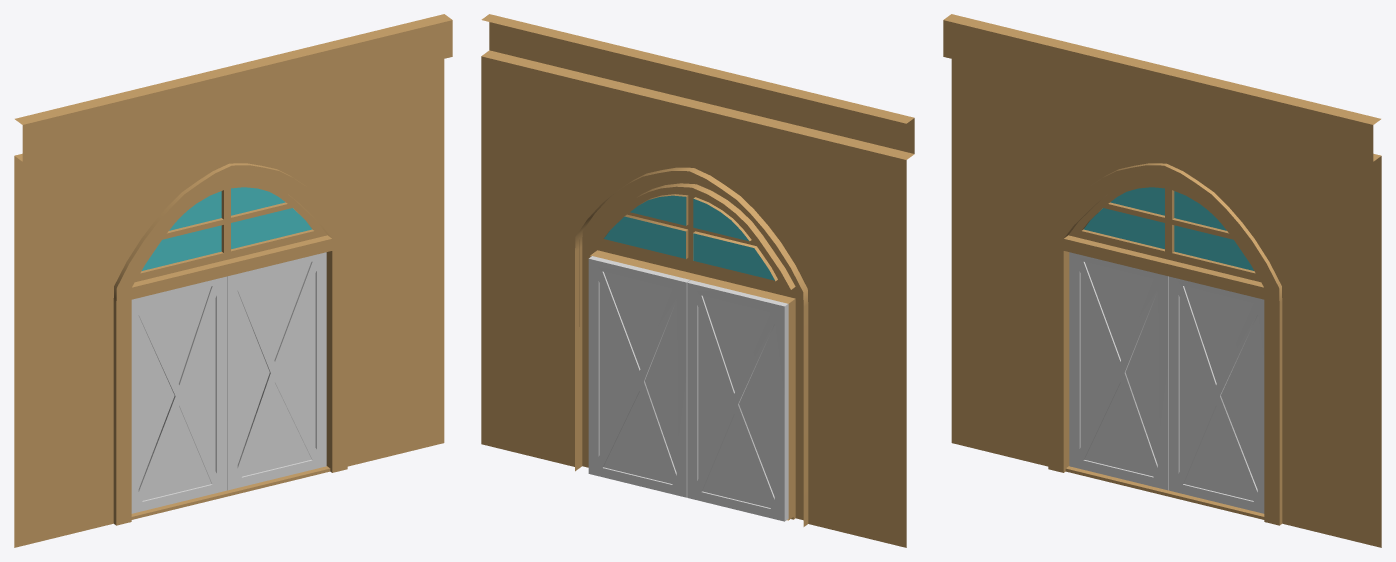
Rendered from Wall_Door.fbx.
3 renders of one model, left to right at view 1: azimuth 30°, elevation 25°; view 2: azimuth 150°, elevation 25°; view 3: azimuth 330°, elevation 25°, orthographic.
Parts seen in each view (by area): view 1: Wall_Door, Wall_DoorFrame, Door2, Door1; view 2: Wall_Door, Wall_DoorFrame, Door1, Door2; view 3: Wall_Door, Wall_DoorFrame, Door1, Door2.
Part boxes in pixels (box(x1,y1,x2,y2)): Wall_Door: box(14, 14, 452, 547); Wall_DoorFrame: box(113, 163, 347, 525); Door2: box(227, 252, 326, 490); Door1: box(131, 276, 226, 513); Wall_Door: box(481, 14, 914, 547); Wall_DoorFrame: box(575, 167, 808, 526); Door1: box(687, 280, 788, 521); Door2: box(588, 256, 690, 497); Wall_Door: box(943, 14, 1381, 547); Wall_DoorFrame: box(1048, 163, 1282, 525); Door1: box(1069, 252, 1168, 490); Door2: box(1168, 276, 1264, 513).
Bounding box in the file's own units: 6 × 5.72 × 0.3749.
